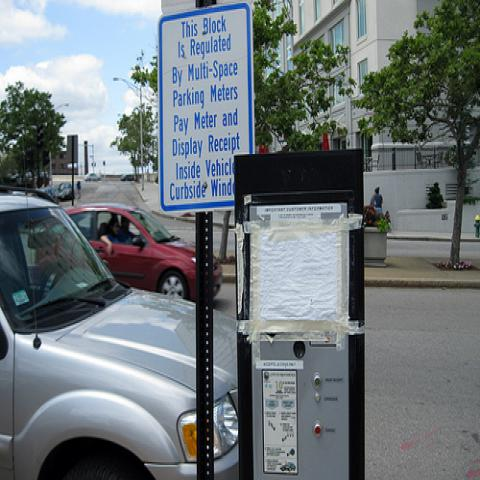car: (3, 189, 248, 474), (61, 203, 225, 305), (56, 183, 75, 202), (84, 172, 102, 183)
truck: (0, 184, 240, 478)
